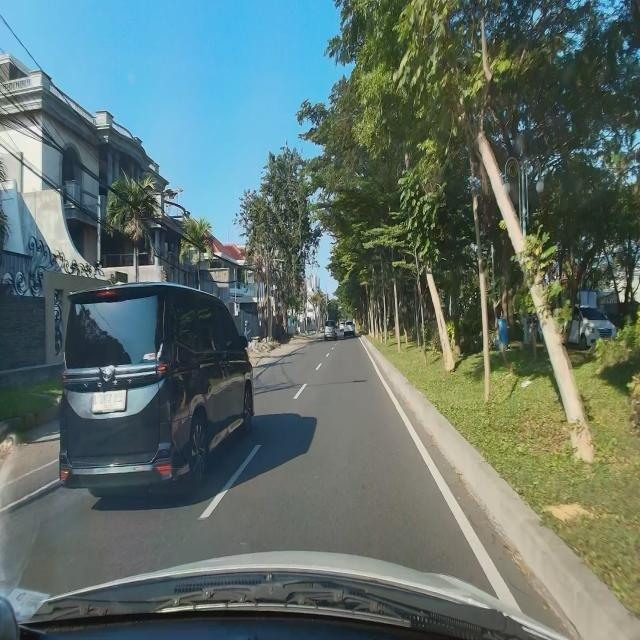car: (57, 266, 257, 497)
license-plate: (91, 388, 127, 414)
